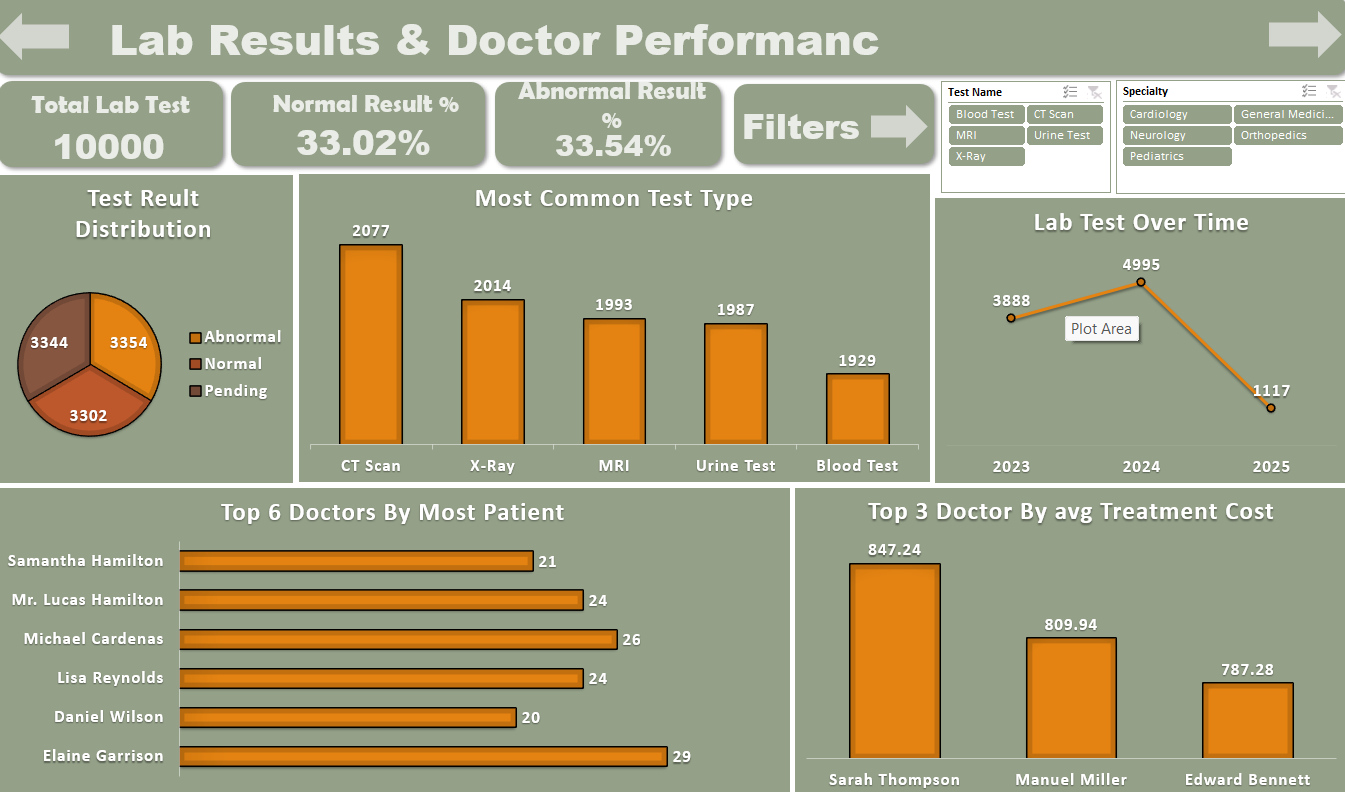

The dashboard page shown, as its layout file describes it:
{"tool":"powerbi","page":{"name":"Lab Result & Doctor Performance","canvas":[1280,720],"ordinal":2},"visuals":[{"type":"shape","box":[0,0,1279.7,52.7],"z":0},{"type":"cardVisual","fields":{"Data":["Lab result.Total Lab Results","Doctor.Total Doctors","Lab result.Normal Result %","Lab result.Abnormal Result %"]},"box":[0,51.4,1279.7,93.2],"z":1000},{"type":"clusteredColumnChart","title":"Most Common Test Type","fields":{"Category":["Lab result.Test Name"],"Y":["Lab result.Total Lab Results"]},"box":[680,145,600,266.2],"z":2000},{"type":"pieChart","title":"Test Result Distribution","fields":{"Category":["Lab result.Test Result"],"Y":["Lab result.Total Lab Results"]},"box":[218.8,145,461.2,266.2],"z":3000},{"type":"slicer","fields":{"Values":["Lab result.Test Name"]},"box":[0,145,218.8,133.8],"z":4000},{"type":"slicer","fields":{"Values":["Doctor.Specialty"]},"box":[0,278.8,218.8,132.5],"z":5000},{"type":"lineChart","title":"Lab Test Over Time","fields":{"Category":["Lab result.Test Date.Variation.Date Hierarchy.Year"],"Y":["Lab result.Total Lab Results"]},"box":[432.5,411.2,847.5,308.8],"z":6000},{"type":"clusteredColumnChart","title":"Top 3 Doctors By Avg Treatment Cost","fields":{"Category":["Doctor.Doctor Name"],"Y":["Treatments.Avg Treatment Cost per Visits"]},"box":[0,411.2,432.5,308.8],"z":7000},{"type":"actionButton","box":[0,0,58.8,51.2],"z":8000}]}

Visuals, with their boxes on the page's 1280x720 design canvas (x1, y1, x2, y2). These are canvas units, not pixel positions in the 1345x792 screenshot, which may show the page scaled, cropped or inside an application window:
shape: <bbox>0, 0, 1280, 53</bbox>
cardVisual - Lab result.Total Lab Results x Doctor.Total Doctors: <bbox>0, 51, 1280, 145</bbox>
"Most Common Test Type" clusteredColumnChart: <bbox>680, 145, 1280, 411</bbox>
"Test Result Distribution" pieChart: <bbox>219, 145, 680, 411</bbox>
slicer - Lab result.Test Name: <bbox>0, 145, 219, 279</bbox>
slicer - Doctor.Specialty: <bbox>0, 279, 219, 411</bbox>
"Lab Test Over Time" lineChart: <bbox>432, 411, 1280, 720</bbox>
"Top 3 Doctors By Avg Treatment Cost" clusteredColumnChart: <bbox>0, 411, 432, 720</bbox>
actionButton: <bbox>0, 0, 59, 51</bbox>
